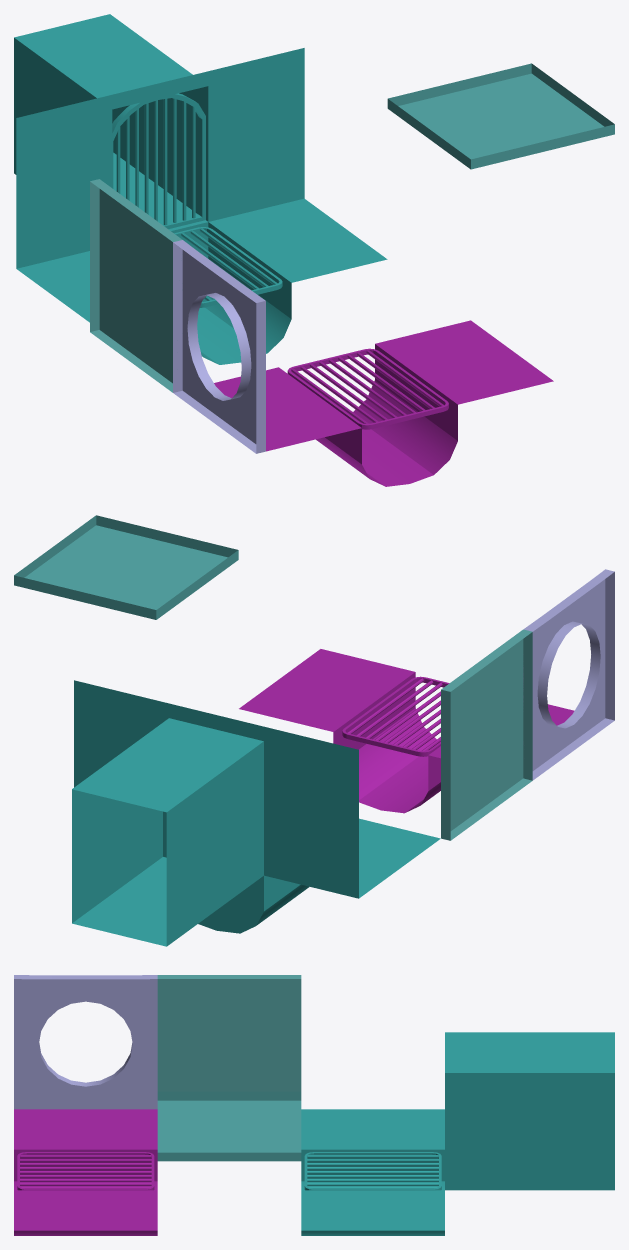
The model's file is SM_Sewers_Pack.fbx.
3 views of the same model, one above another, from view 1: azimuth 30°, elevation 25°; view 2: azimuth 150°, elevation 25°; view 3: azimuth 270°, elevation 25° (orthographic). The views are drawn at different scales.
Parts seen in each view (by area): view 1: SM_Pipes_SewersArenaEnd, SM_Pipes_SewersArena1, SM_Pipes_Roof, SM_Pipes_Wall1, SM_Pipes_WallHole; view 2: SM_Pipes_SewersArenaEnd, SM_Pipes_SewersArena1, SM_Pipes_Wall1, SM_Pipes_Roof, SM_Pipes_WallHole; view 3: SM_Pipes_SewersArenaEnd, SM_Pipes_SewersArena1, SM_Pipes_Wall1, SM_Pipes_WallHole, SM_Pipes_Roof.
Part boxes in pixels (x1,y1,x2,y2): SM_Pipes_SewersArenaEnd: (14,14,387,364); SM_Pipes_SewersArena1: (214,320,553,486); SM_Pipes_Roof: (387,63,614,169); SM_Pipes_Wall1: (90,179,182,392); SM_Pipes_WallHole: (173,240,265,453); SM_Pipes_SewersArenaEnd: (72,680,440,946); SM_Pipes_SewersArena1: (239,649,574,813); SM_Pipes_Wall1: (441,629,532,840); SM_Pipes_Roof: (14,515,238,619); SM_Pipes_WallHole: (523,569,614,780); SM_Pipes_SewersArenaEnd: (301,1032,614,1235); SM_Pipes_SewersArena1: (14,1109,157,1235); SM_Pipes_Wall1: (157,975,301,1091); SM_Pipes_WallHole: (14,975,157,1109); SM_Pipes_Roof: (157,1091,301,1161).
Bounding box in the file's own units: 1534 × 758 × 2091.
